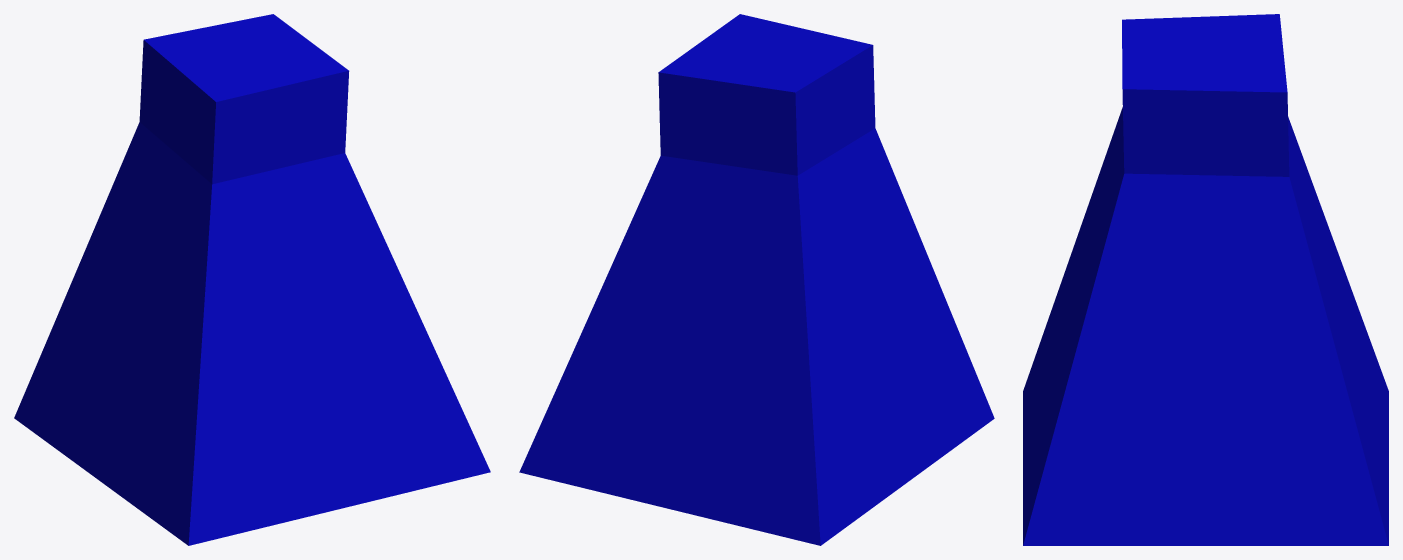
The model's file is textures.obj.
3 renders of one model, left to right at view 1: azimuth 30°, elevation 25°; view 2: azimuth 150°, elevation 25°; view 3: azimuth 270°, elevation 25°, orthographic. The views are drawn at different scales.
Visible parts, largest first — view 1: Cube; view 2: Cube; view 3: Cube.
Boxes of the visible parts, <box> form: Cube: <box>14,14,490,545</box>; Cube: <box>519,14,994,545</box>; Cube: <box>1023,14,1388,545</box>.
Size of the model in its own units: 2 by 2.51 by 2.
